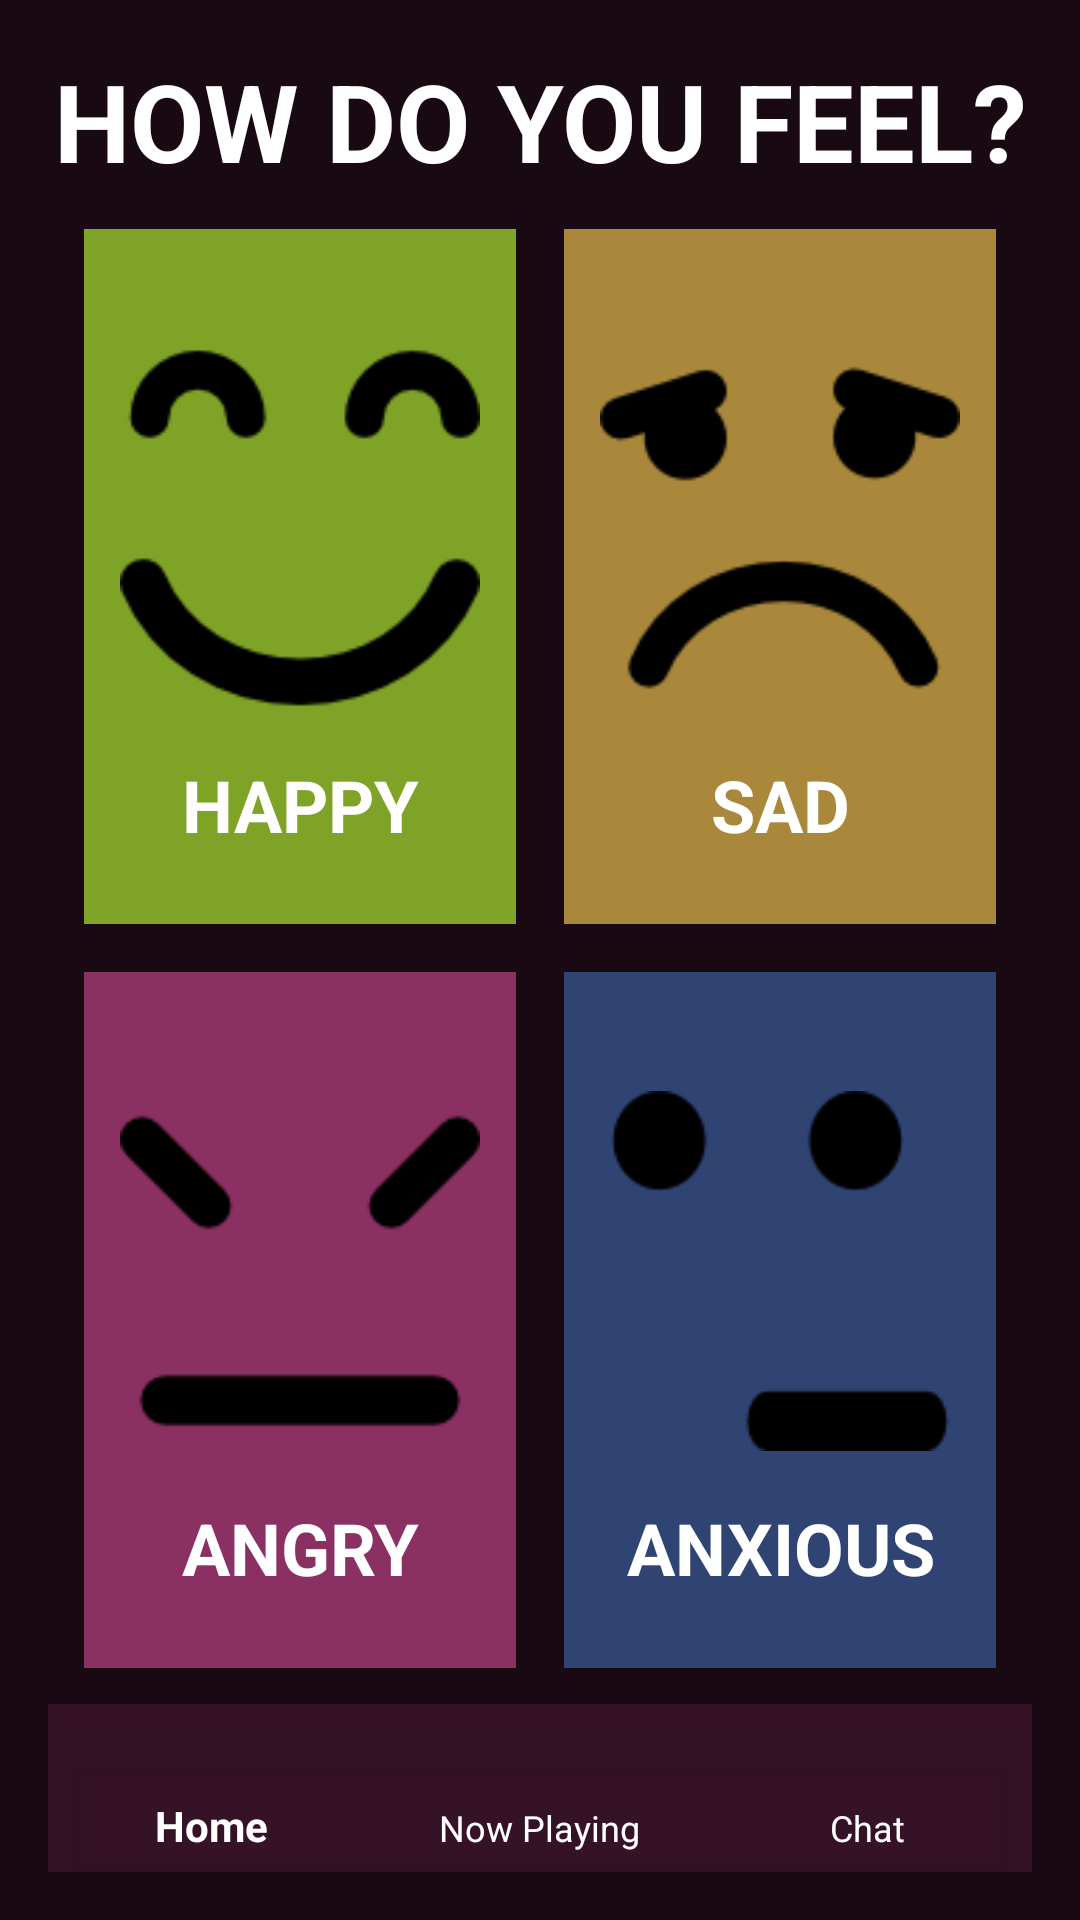

Icon bounding boxes for this 1080*1920 phone screenshot, format (x1, y1, x2, y2):
fear: (612, 1091, 948, 1451)
